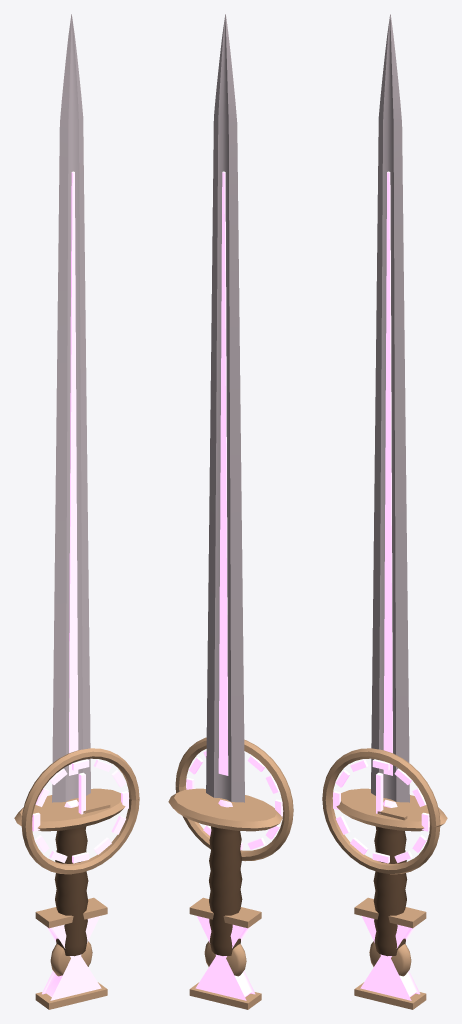
The model's file is fa_last_hour.glb.
3 renders of one model, left to right at view 1: azimuth 30°, elevation 25°; view 2: azimuth 150°, elevation 25°; view 3: azimuth 330°, elevation 25°, orthographic.
Parts seen in each view (by area): view 1: fa_last_hour; view 2: fa_last_hour; view 3: fa_last_hour.
Boxes of the visible parts, box(x1,y1,x2,y2) form: fa_last_hour: box(14, 14, 139, 1009); fa_last_hour: box(168, 14, 293, 1009); fa_last_hour: box(322, 14, 447, 1009).
Size of the model in its own units: 0.1506 by 1.21 by 0.0758.
